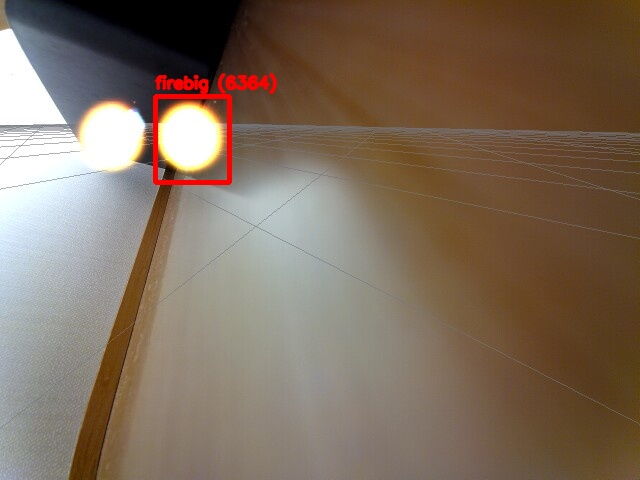firebig: (155, 96, 229, 182)
